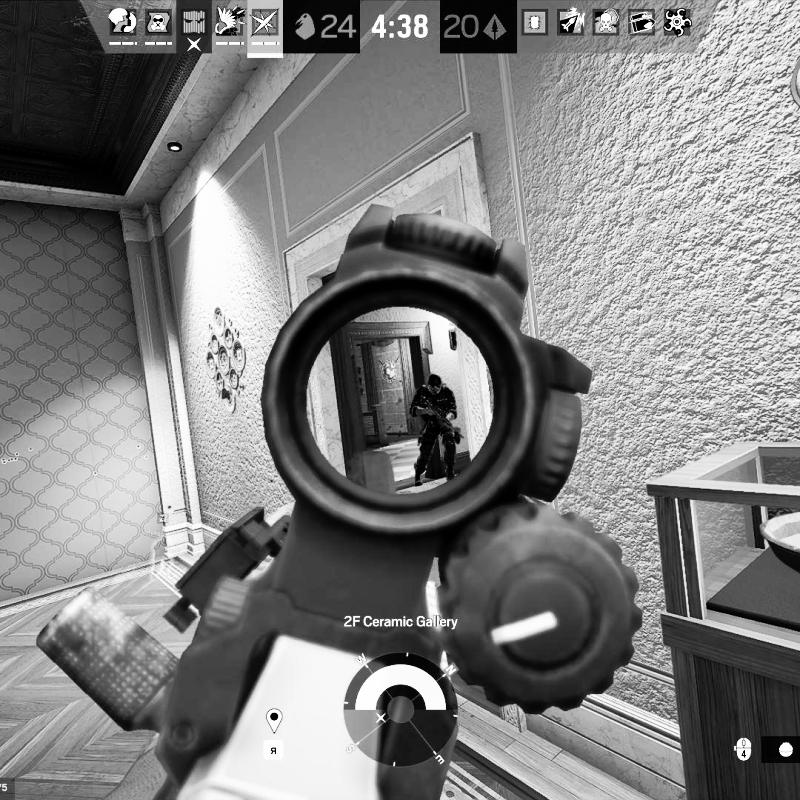Character: (407, 374, 464, 487)
Friend_label: (148, 512, 180, 537)
Head: (426, 375, 442, 394)
